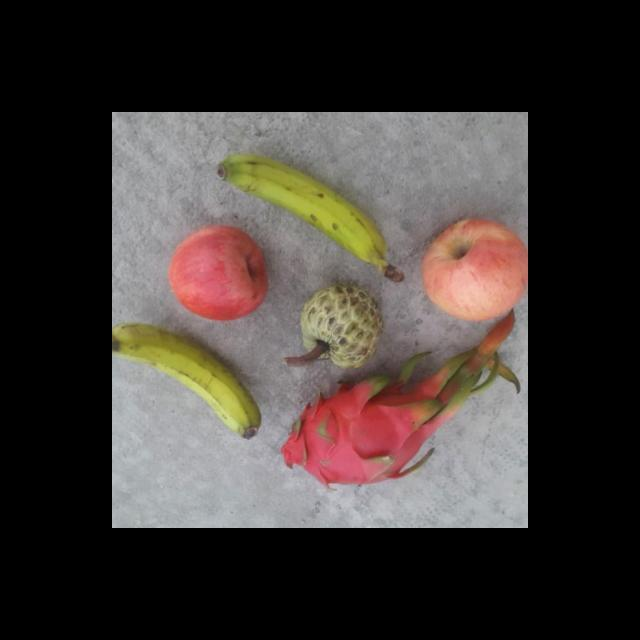Sakya fruit: (290, 282, 384, 370)
apple: (417, 212, 528, 324), (162, 222, 271, 324)
banana: (214, 152, 408, 286), (112, 325, 264, 441)
pitaya: (278, 376, 444, 497)
